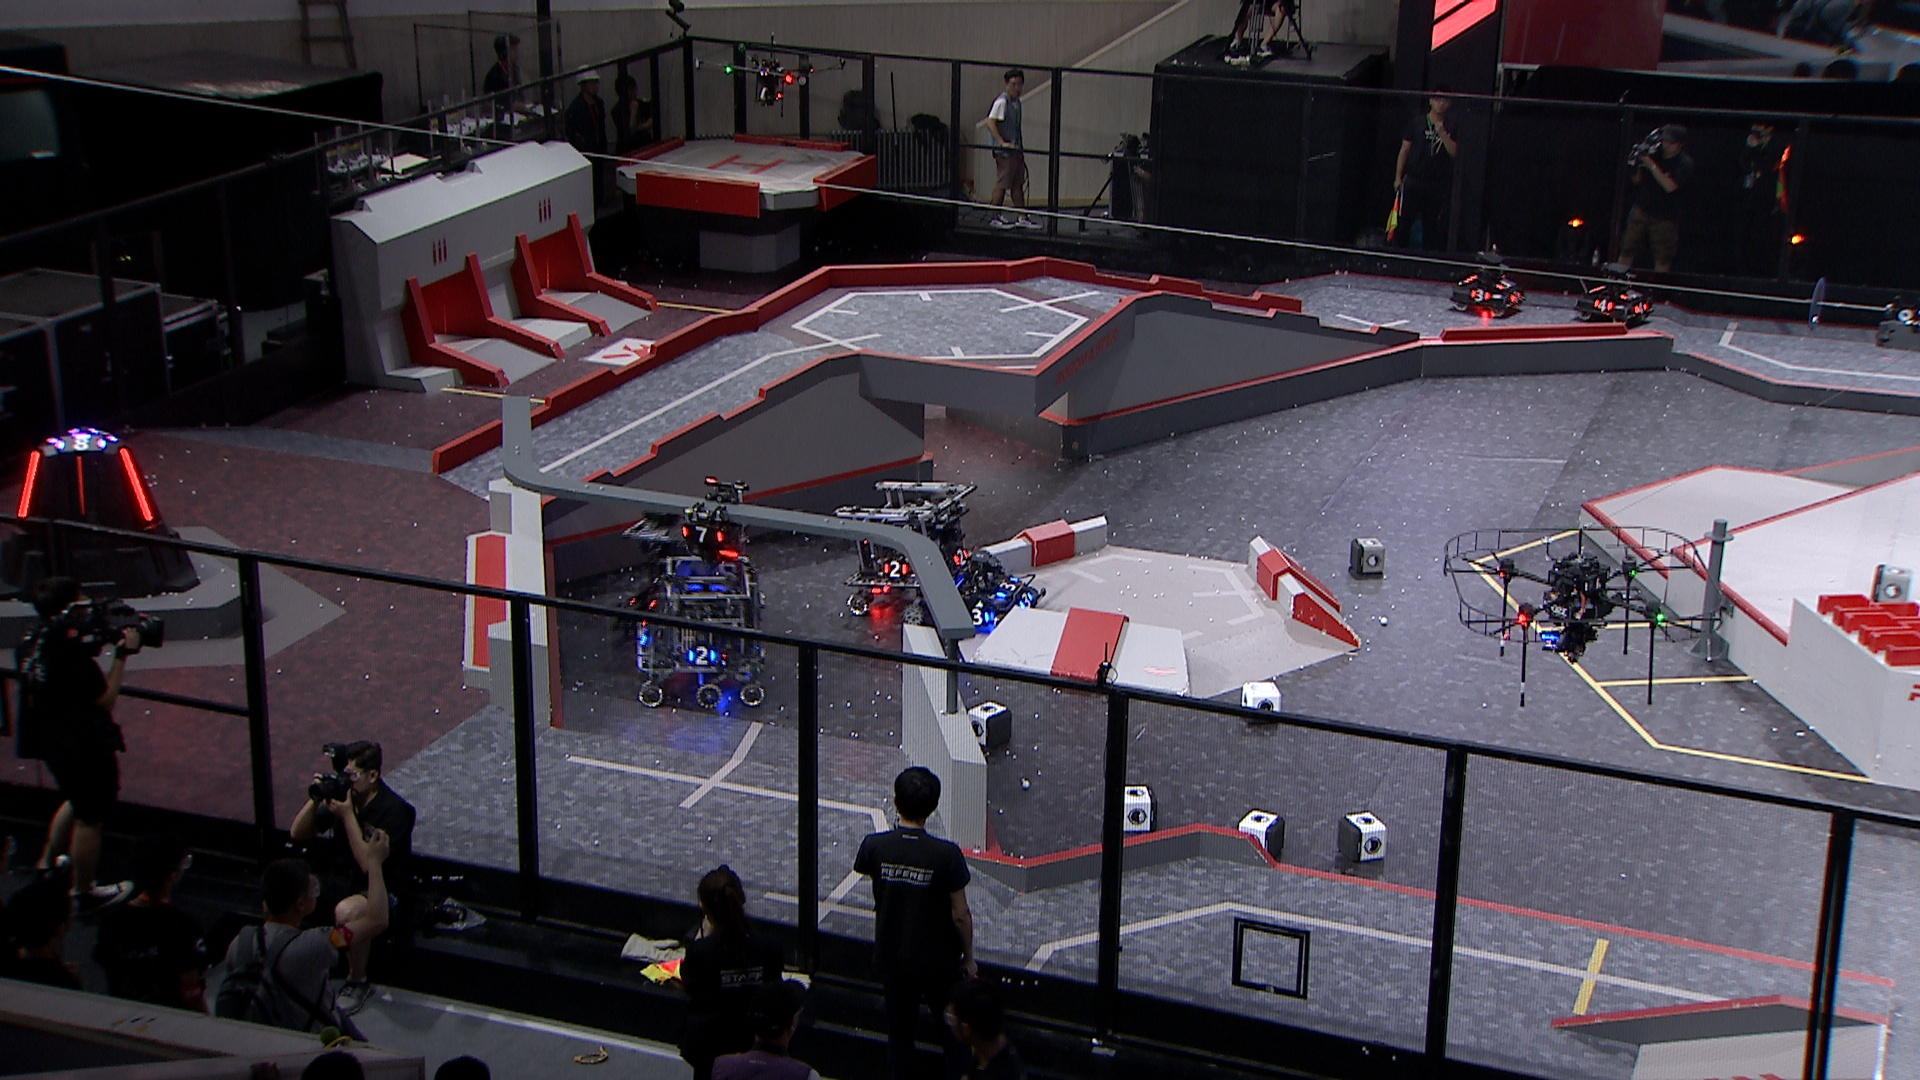armor: (117, 443, 153, 522), (13, 448, 41, 518), (684, 520, 727, 542), (73, 456, 86, 517), (684, 645, 723, 665), (997, 575, 1015, 603), (882, 560, 909, 578), (965, 608, 989, 624), (953, 549, 969, 567), (1593, 295, 1613, 310), (1017, 593, 1034, 609), (1618, 289, 1640, 301), (1495, 276, 1510, 291), (1470, 289, 1489, 301), (1510, 287, 1524, 301), (1633, 301, 1647, 314)
car: (629, 547, 771, 712), (833, 473, 978, 622), (604, 509, 756, 645), (939, 560, 1046, 642), (1576, 257, 1667, 339), (1448, 249, 1527, 320)
ignore: (54, 433, 105, 451)
watcher: (680, 477, 756, 572)
